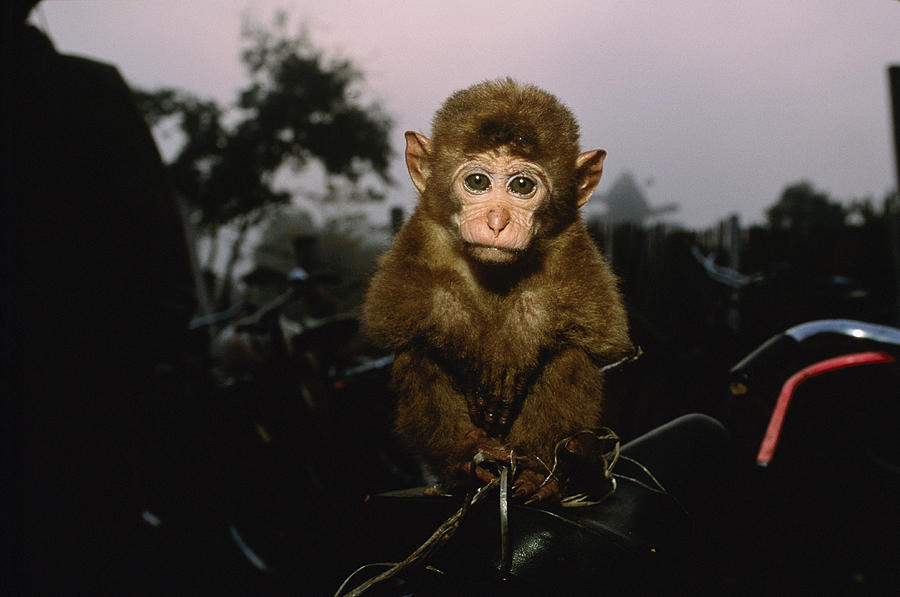monkey: (325, 78, 660, 525)
